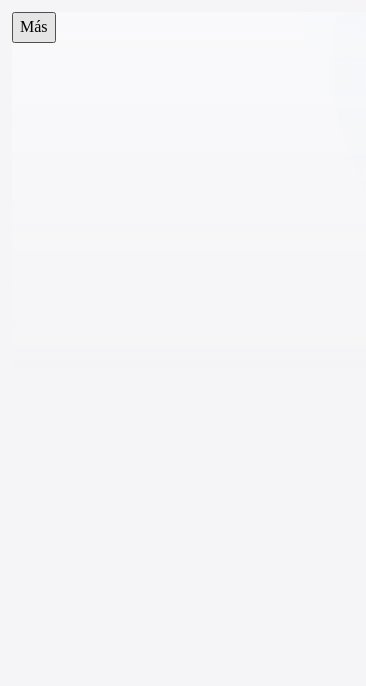
it: MoreMenu › lists the hidden destinations grouped by section
This screenshot has width=366, height=686.
Click the button "Más" at (34, 27), box [12,12,56,43]
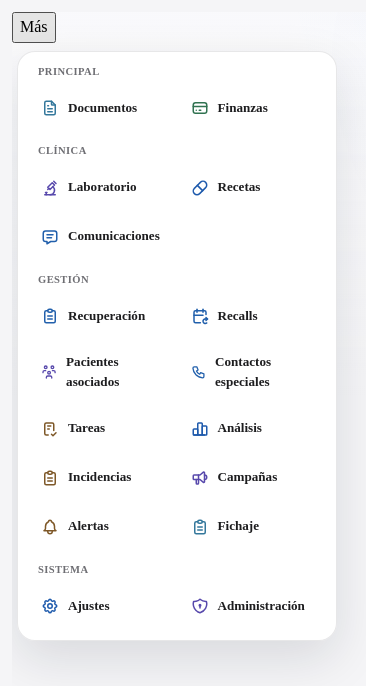
Result: the text "Gestión" is shown at [38,274,89,284]
